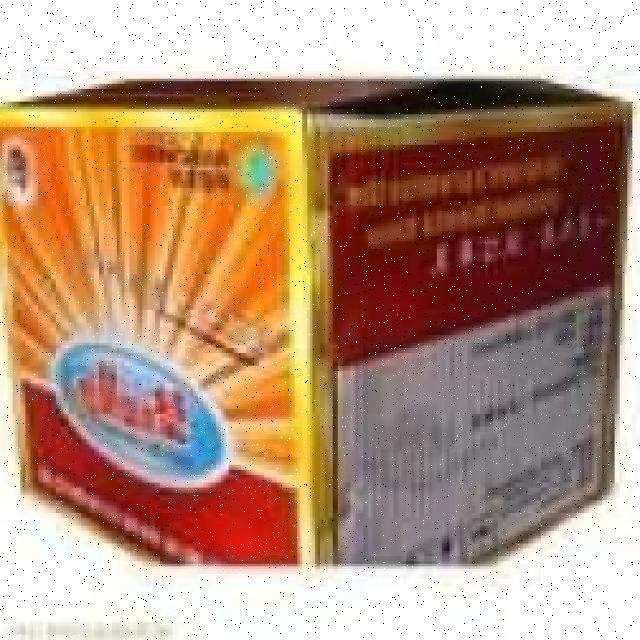box: (0, 51, 638, 592)
